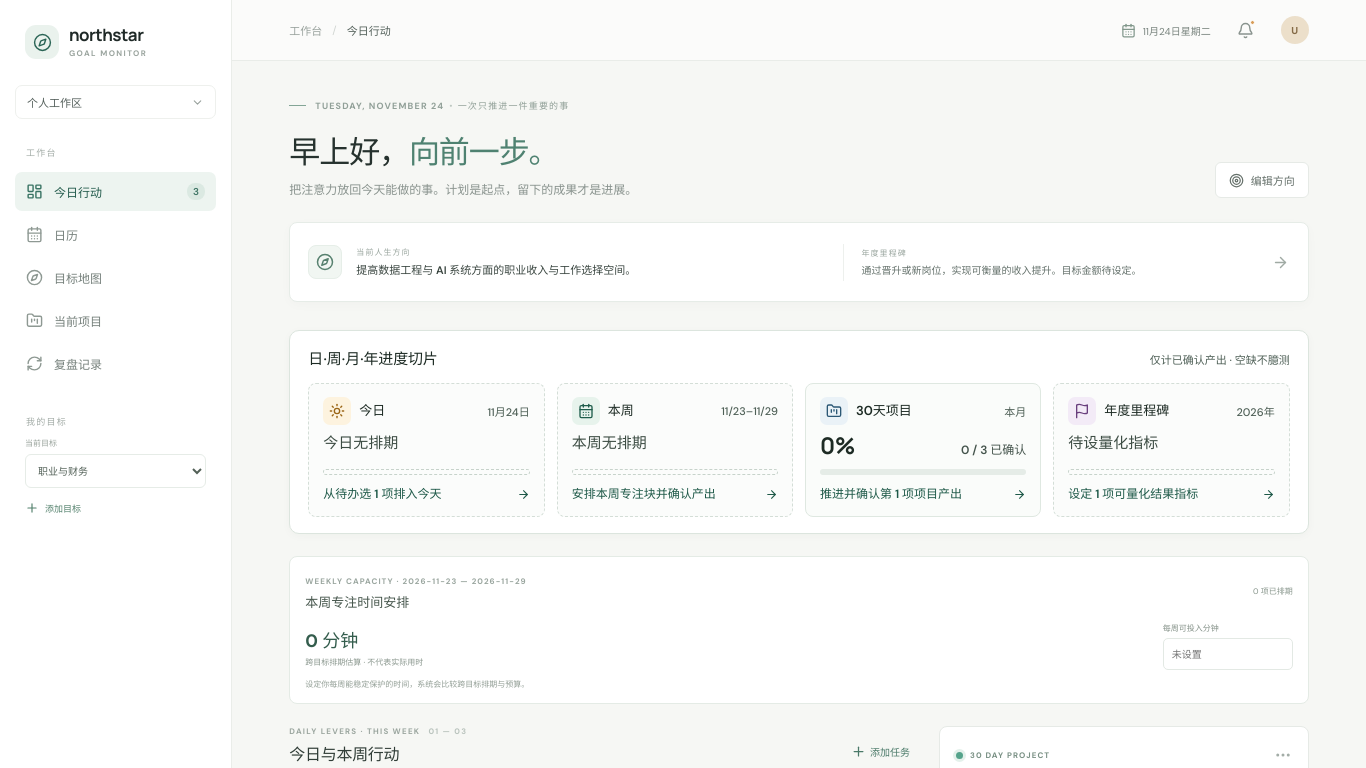
Test: Goal Monitor first-run flows › supports a weekly decision and records the selected adjustment
The width and height of the screenshot is (1366, 768).
Click the button "复盘记录": (116, 364) x1=15 y1=344 x2=216 y2=383
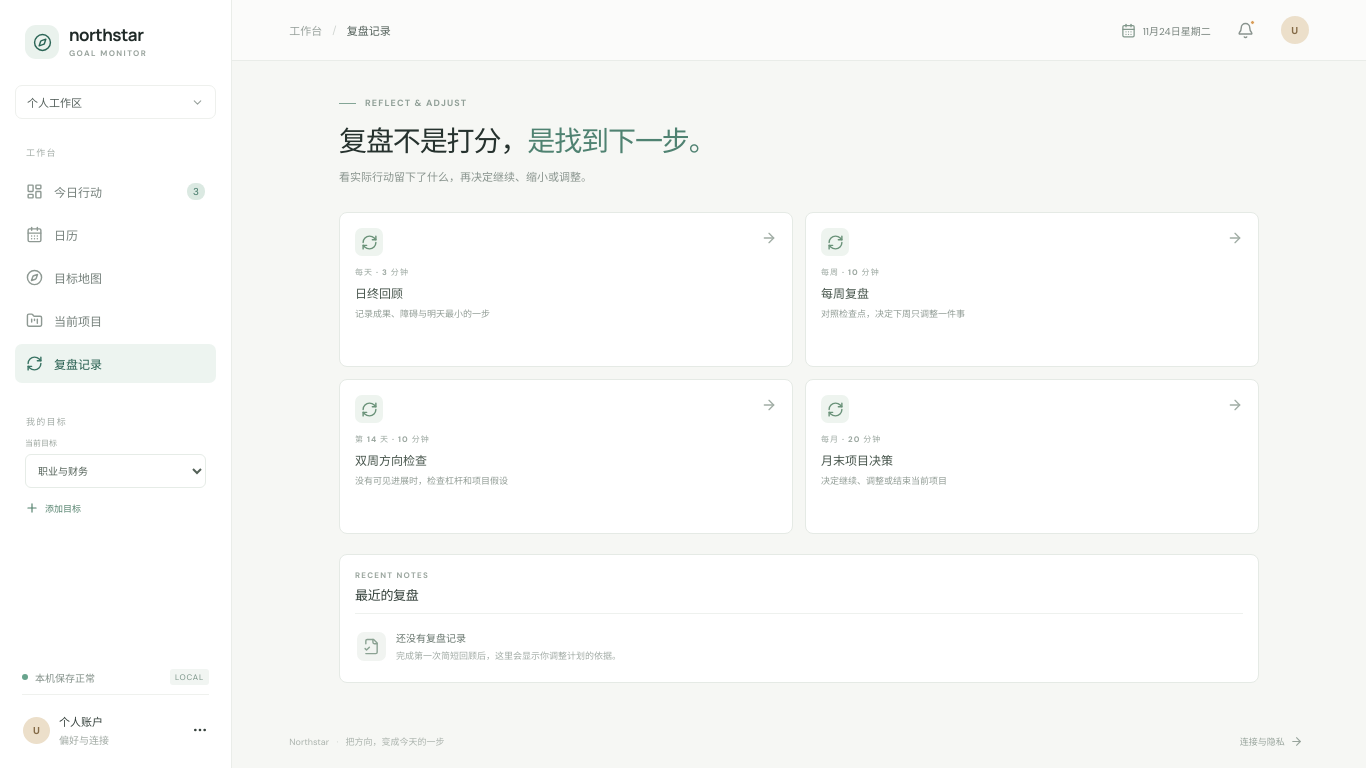
Click the button "每周 · 10 分钟 每周复盘 对照检查点，决定下周只调整一件事": (850, 272) x1=805 y1=212 x2=1259 y2=368
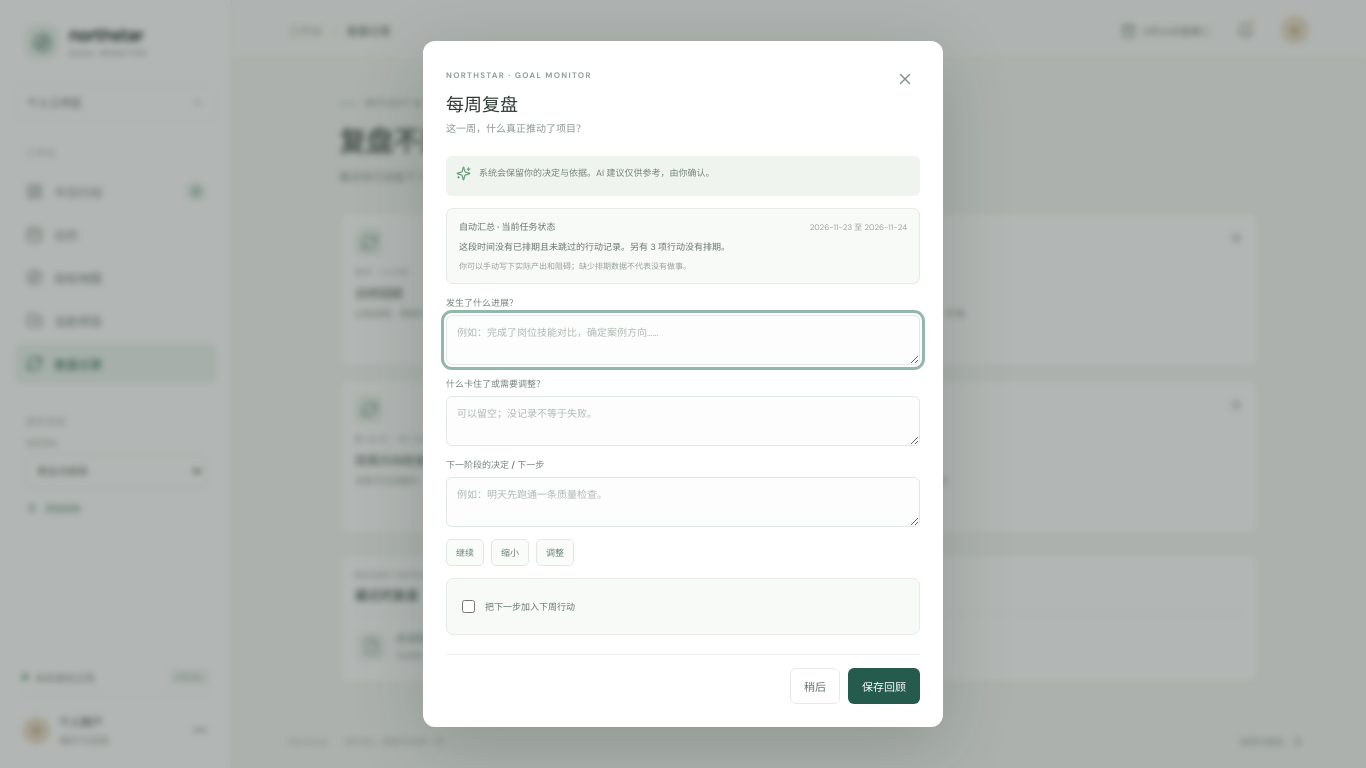
Check: the text "自动汇总 · 当前任务状态" is shown, box x1=459 y1=220 x2=556 y2=233
Check: the text "这段时间没有已排期且未跳过的行动记录。另有 3 项行动没有排期。" is shown, box x1=459 y1=241 x2=730 y2=253
Click the button "缩小": (510, 552) x1=491 y1=539 x2=529 y2=566
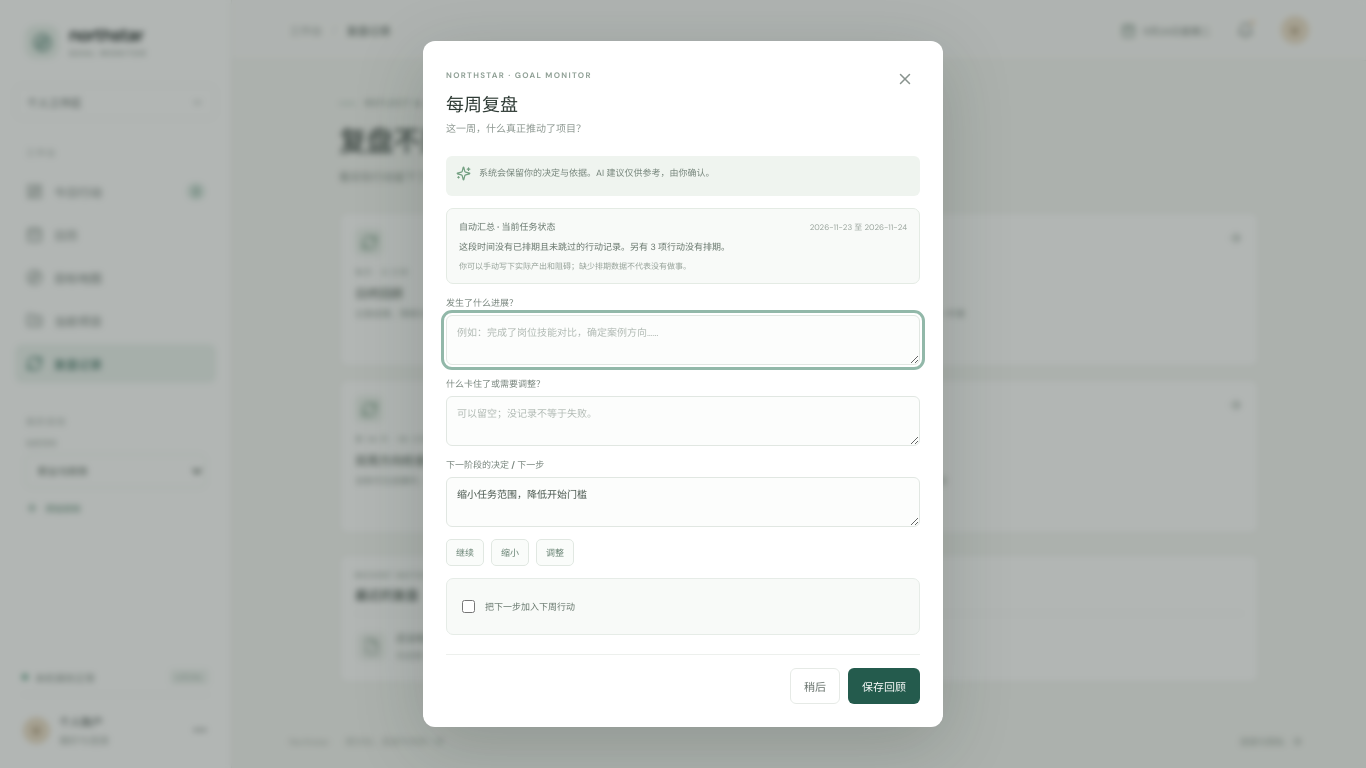
Click the button "保存回顾": (884, 686) x1=848 y1=668 x2=920 y2=704
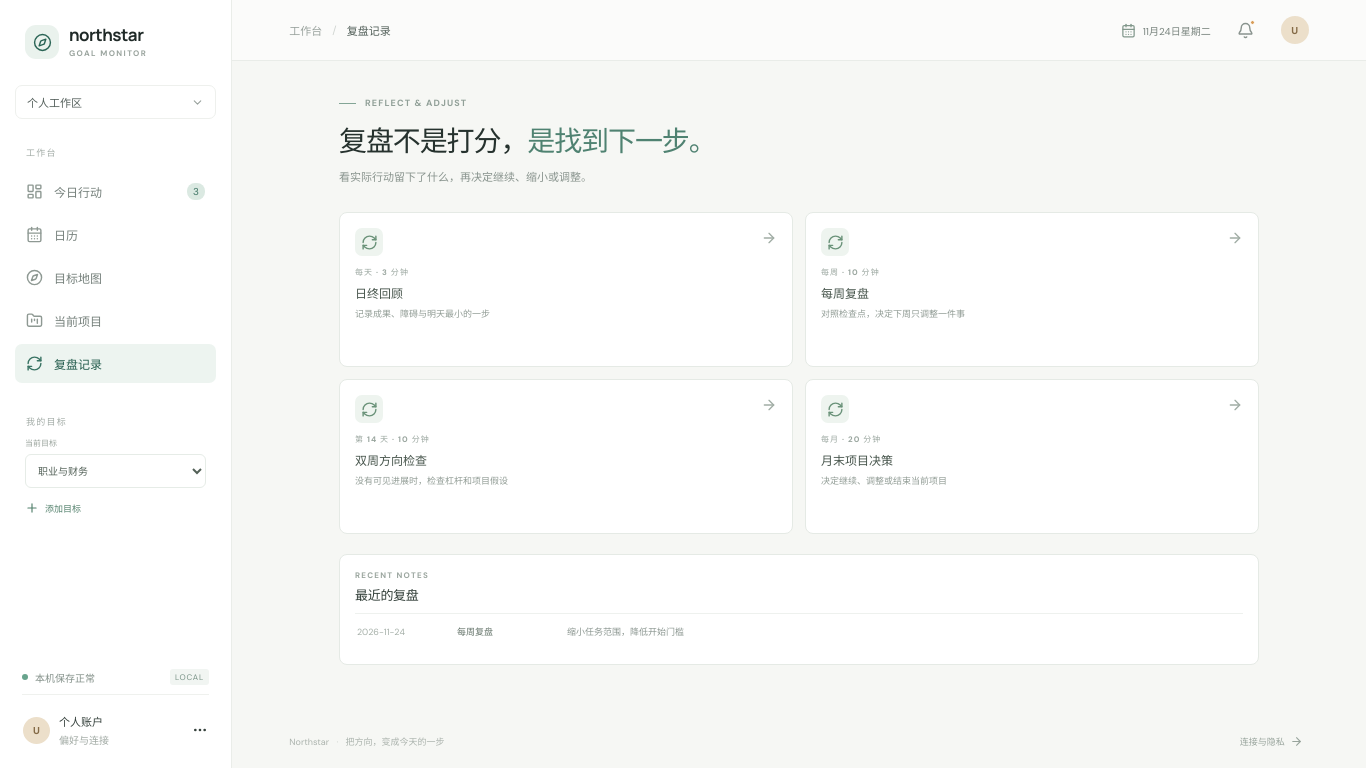
Check: the text "缩小任务范围，降低开始门槛" is shown, box x1=567 y1=626 x2=684 y2=638
